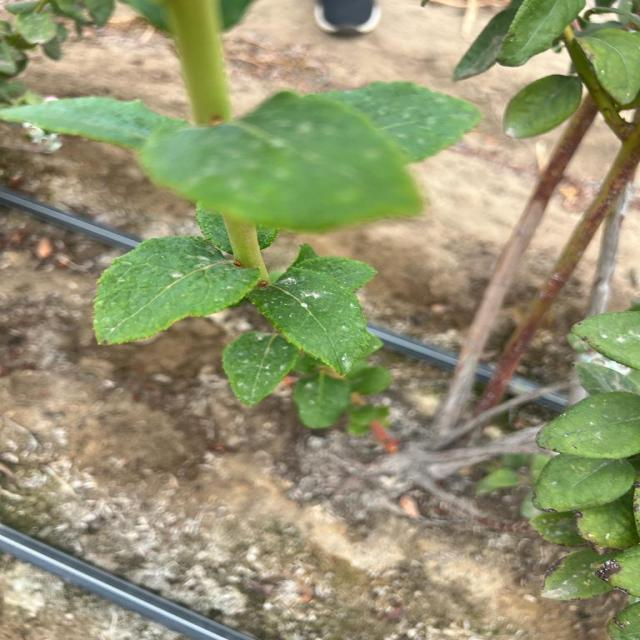Hojas con oidiosis: (91, 234, 263, 344), (244, 272, 372, 376), (222, 329, 300, 407)
